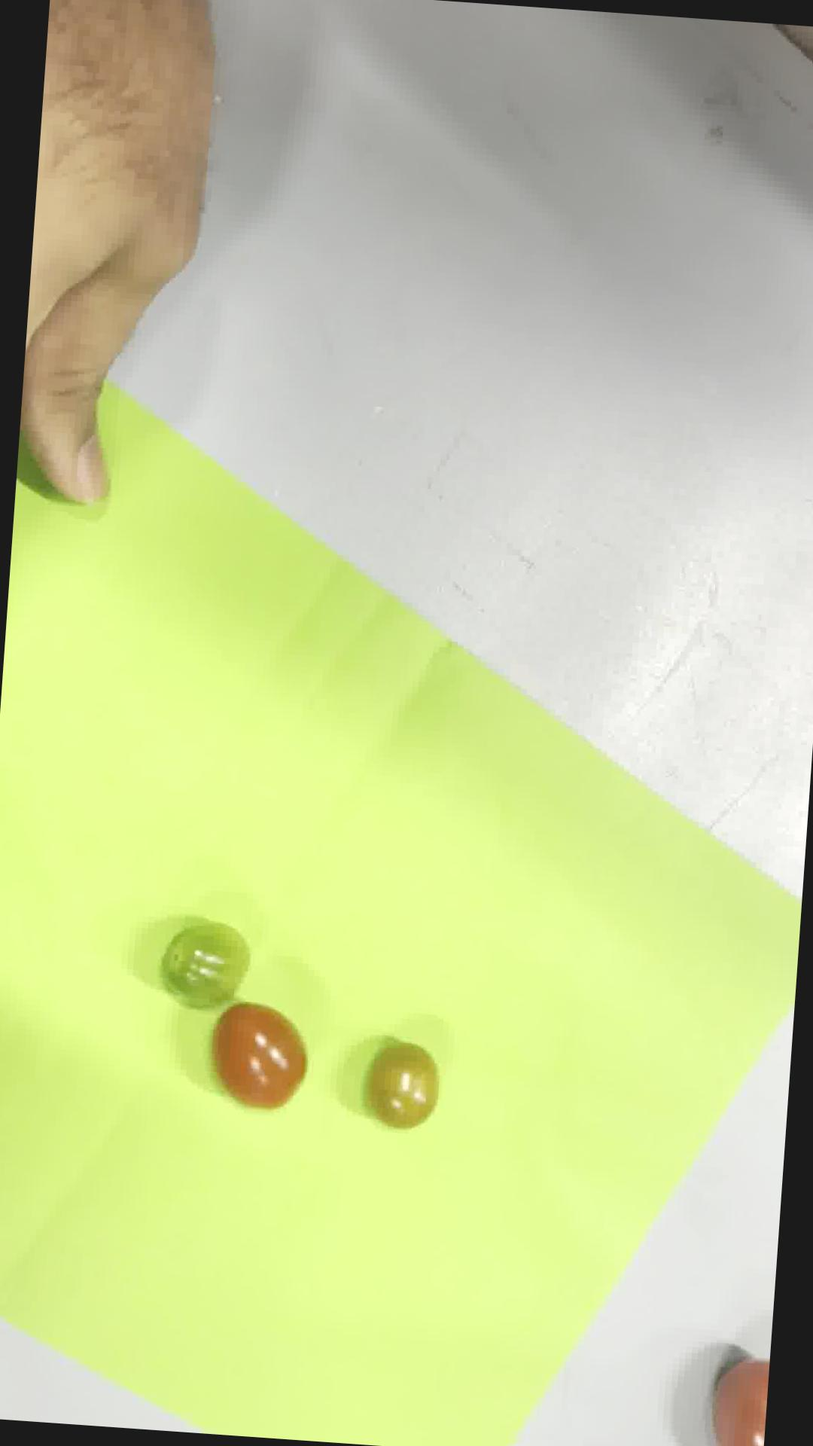green_cherry_tomato: (160, 920, 249, 1008)
red_cherry_tomato: (212, 1002, 307, 1107)
yellow_cherry_tomato: (367, 1042, 438, 1128)
